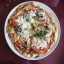basil: (30, 29, 48, 39), (13, 25, 24, 36)
pizza: (4, 3, 59, 58)
